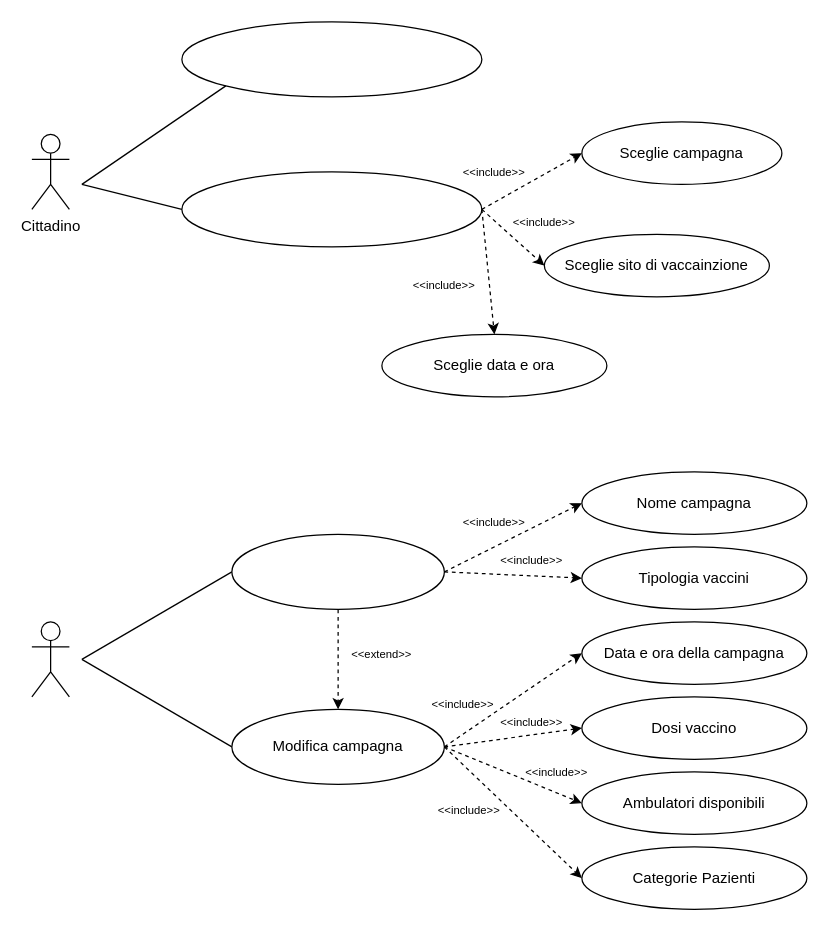
The diagram is 829 pixels wide and 931 high, and some of its shapes have lost their labels. Each missing label, with the centre of its shape:
"Admin" goes at (x=50, y=659).
"Crea nuova campagna" goes at (x=337, y=571).
"Effettua prenotazione" goes at (x=331, y=209).
"Effettua registrazione" goes at (x=331, y=59).
